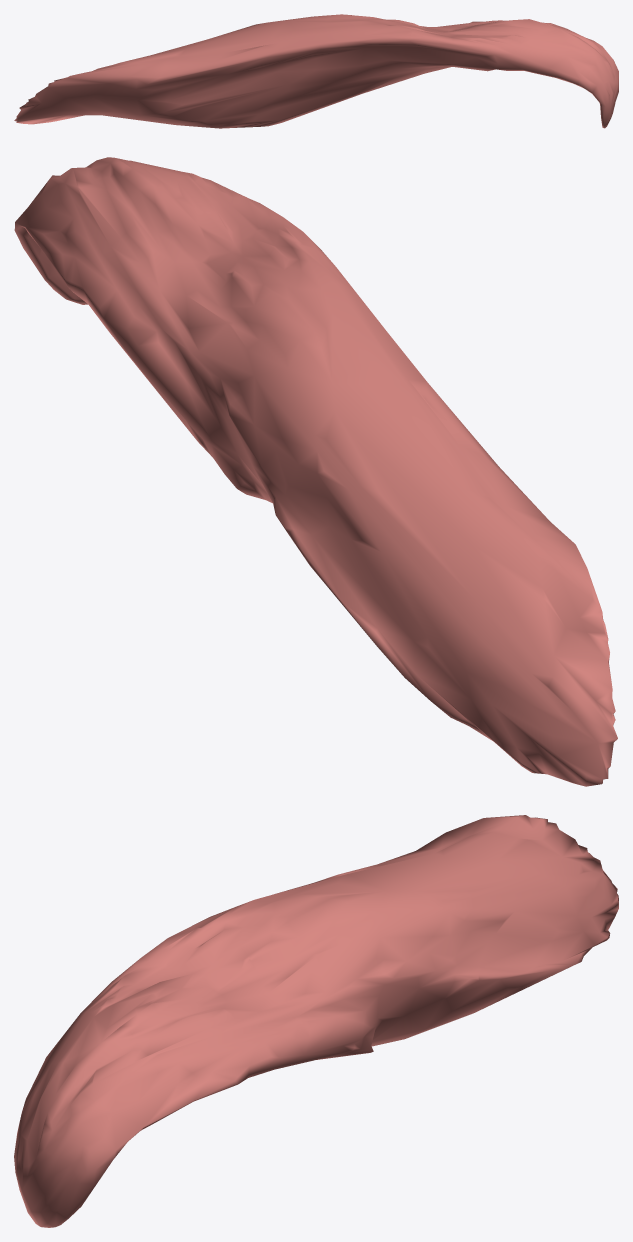
3 renders of one model, top to bottom at view 1: azimuth 30°, elevation 25°; view 2: azimuth 150°, elevation 25°; view 3: azimuth 270°, elevation 25°, orthographic. The views are drawn at different scales.
Parts seen in each view (by area): view 1: ZA_0425424460a59648; view 2: ZA_0425424460a59648; view 3: ZA_0425424460a59648.
Part boxes in pixels (x1=…): ZA_0425424460a59648: x1=14, y1=14, x2=618, y2=128; ZA_0425424460a59648: x1=14, y1=157, x2=617, y2=786; ZA_0425424460a59648: x1=14, y1=815, x2=618, y2=1227.
Size of the model in its own units: 0.1251 by 0.0328 by 0.0848.
